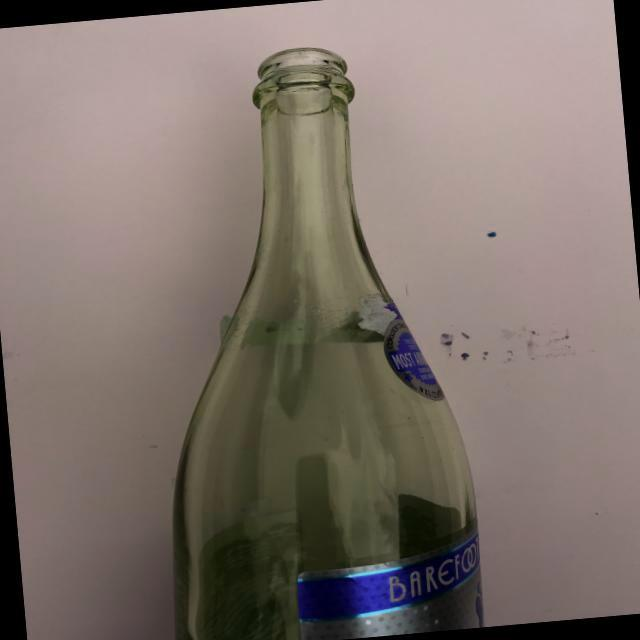glass: (103, 20, 499, 640)
